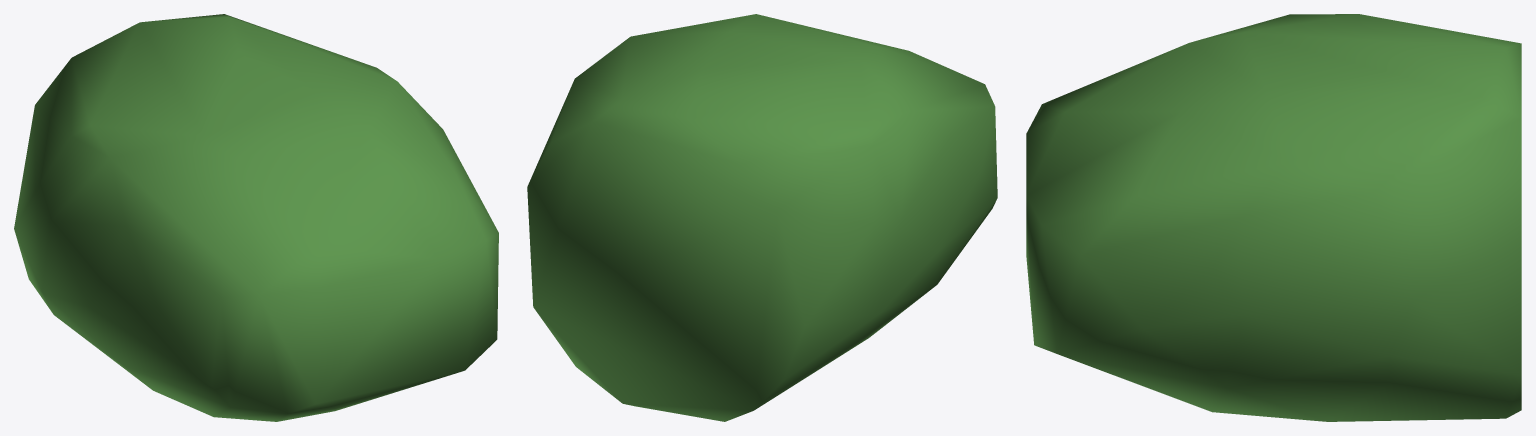
3 renders of one model, left to right at view 1: azimuth 30°, elevation 25°; view 2: azimuth 150°, elevation 25°; view 3: azimuth 270°, elevation 25°, orthographic. The views are drawn at different scales.
Bounding box in the file's own units: 0.0842 × 0.0709 × 0.0946.
